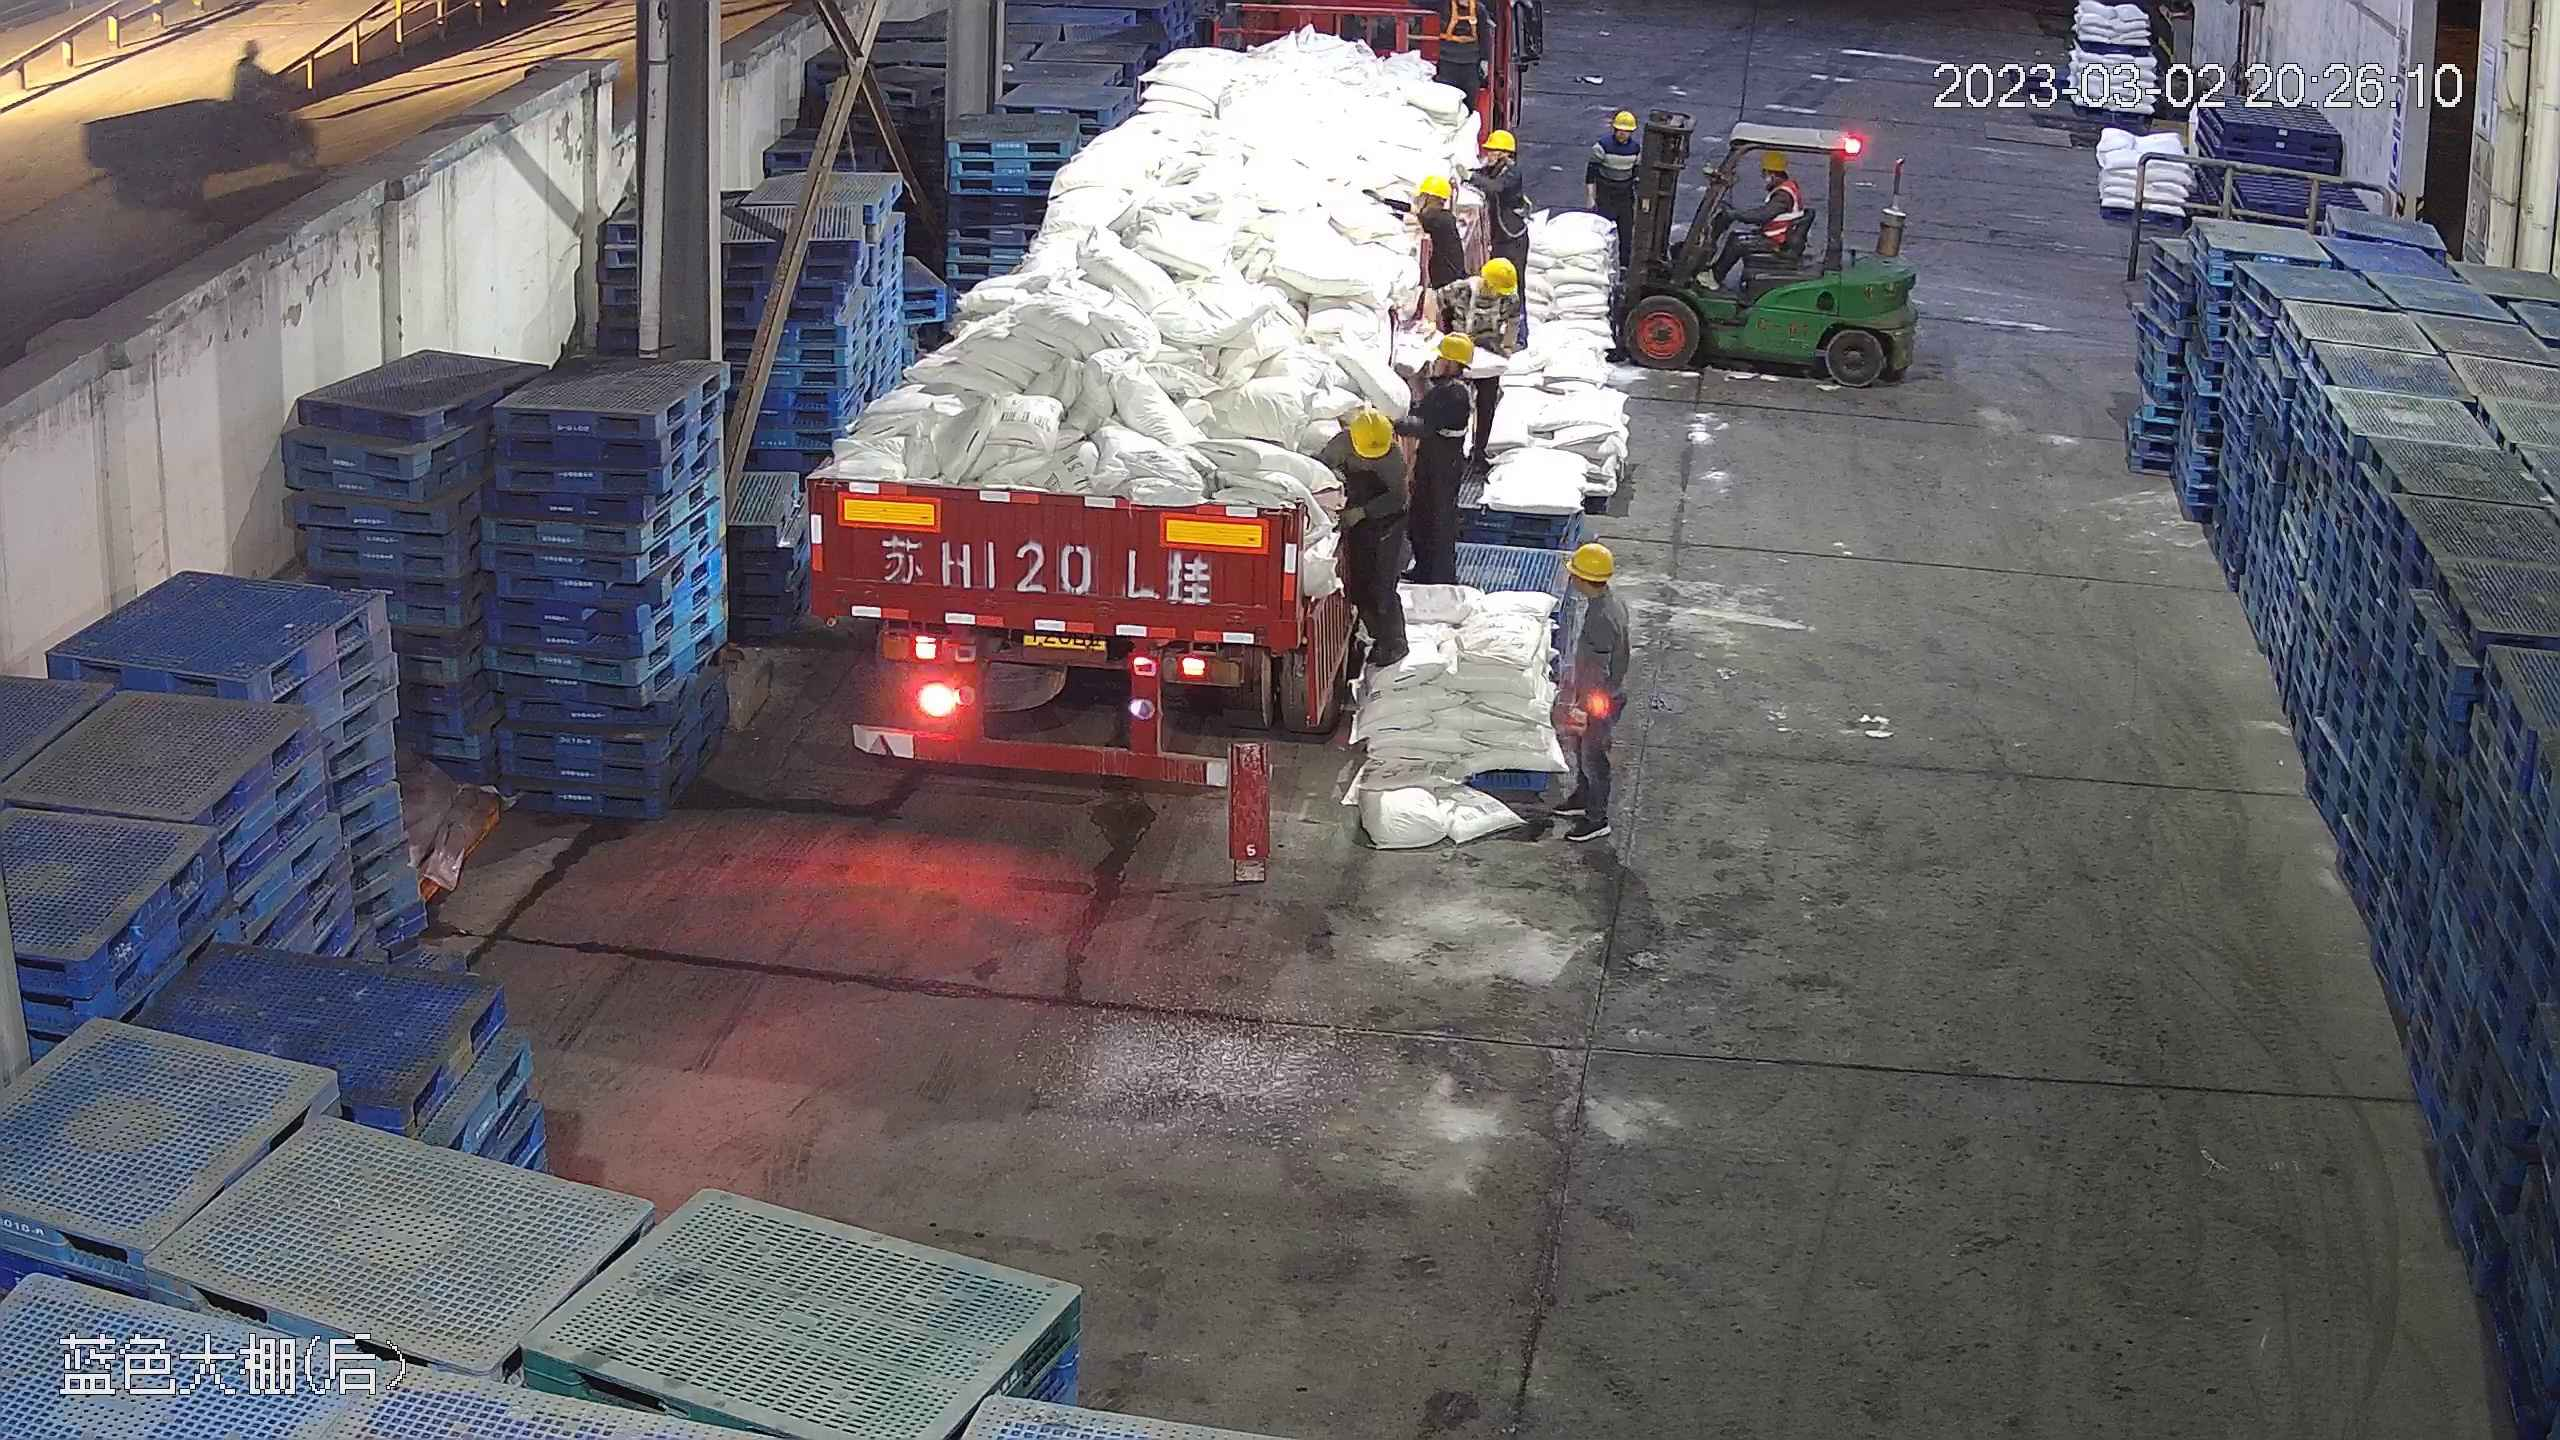belt: (1456, 272, 1504, 344), (1346, 440, 1401, 499), (1417, 379, 1472, 438), (1435, 3, 1480, 45), (1498, 159, 1516, 183)
head: (1556, 540, 1624, 642), (1329, 403, 1413, 486), (1414, 328, 1493, 410), (1448, 259, 1529, 333), (1471, 128, 1525, 203), (1408, 171, 1461, 231), (1756, 149, 1802, 207), (1595, 108, 1644, 159)
helmet: (1346, 404, 1395, 459), (1564, 540, 1616, 580), (1479, 254, 1520, 294), (1429, 331, 1472, 365), (1416, 172, 1454, 199), (1484, 128, 1519, 152), (1761, 148, 1789, 168), (1610, 109, 1637, 130)
people: (1546, 541, 1629, 850), (1327, 404, 1416, 692), (1409, 327, 1484, 587), (1394, 167, 1469, 343), (1709, 154, 1803, 286), (1473, 125, 1534, 309), (1589, 104, 1647, 240)
truck: (797, 13, 1421, 781)
